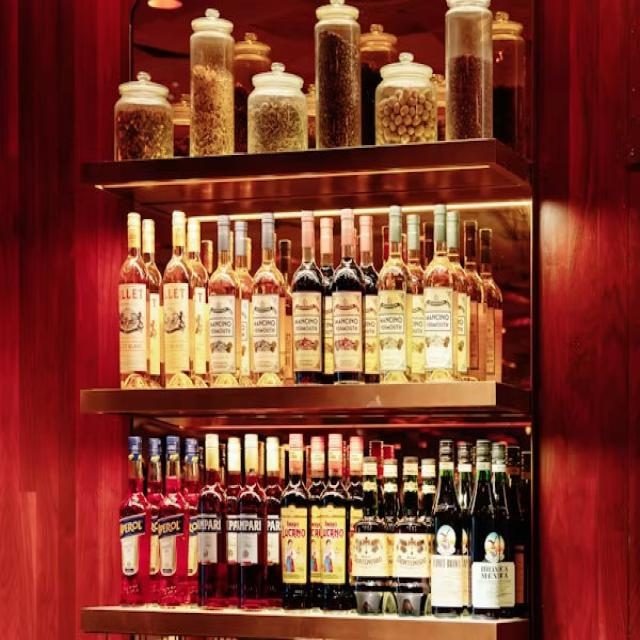Bottle: (315, 0, 361, 149), (431, 440, 469, 617), (445, 0, 493, 140), (190, 9, 234, 156), (471, 440, 504, 617), (424, 205, 457, 381), (331, 210, 364, 383), (393, 457, 429, 615), (352, 457, 388, 614), (208, 215, 241, 386), (251, 214, 284, 385), (247, 62, 308, 153), (378, 205, 409, 383), (292, 211, 324, 383), (320, 434, 351, 610), (119, 212, 149, 388), (281, 434, 311, 610), (237, 434, 267, 608), (198, 434, 228, 608), (120, 437, 151, 604), (164, 211, 193, 388), (158, 436, 188, 605), (492, 443, 515, 617), (446, 211, 469, 379), (187, 218, 209, 386), (142, 220, 164, 386), (464, 221, 486, 379), (507, 446, 527, 617), (480, 228, 502, 382), (360, 217, 379, 383), (235, 221, 253, 386), (309, 437, 326, 608), (265, 437, 282, 607), (407, 215, 424, 382), (147, 439, 163, 603), (184, 439, 200, 603), (227, 437, 242, 605), (347, 437, 363, 585), (382, 458, 399, 590), (320, 218, 333, 383), (421, 458, 437, 590), (279, 239, 293, 385), (520, 451, 532, 615), (457, 443, 473, 556), (370, 440, 383, 519), (421, 458, 437, 520), (520, 451, 532, 533), (423, 222, 434, 268), (201, 239, 213, 275), (280, 444, 289, 490), (219, 443, 227, 490), (258, 440, 264, 487), (246, 237, 253, 274), (199, 443, 204, 489)
